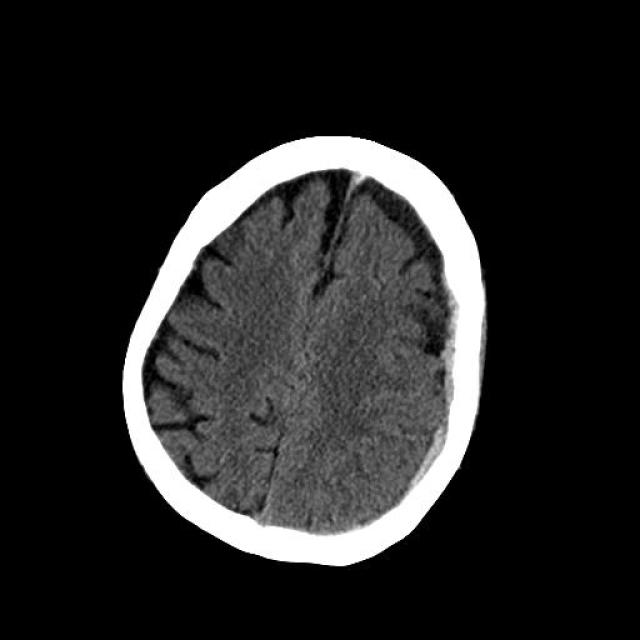Subdural: (400, 293, 516, 415), (392, 415, 502, 507), (314, 141, 374, 284)
